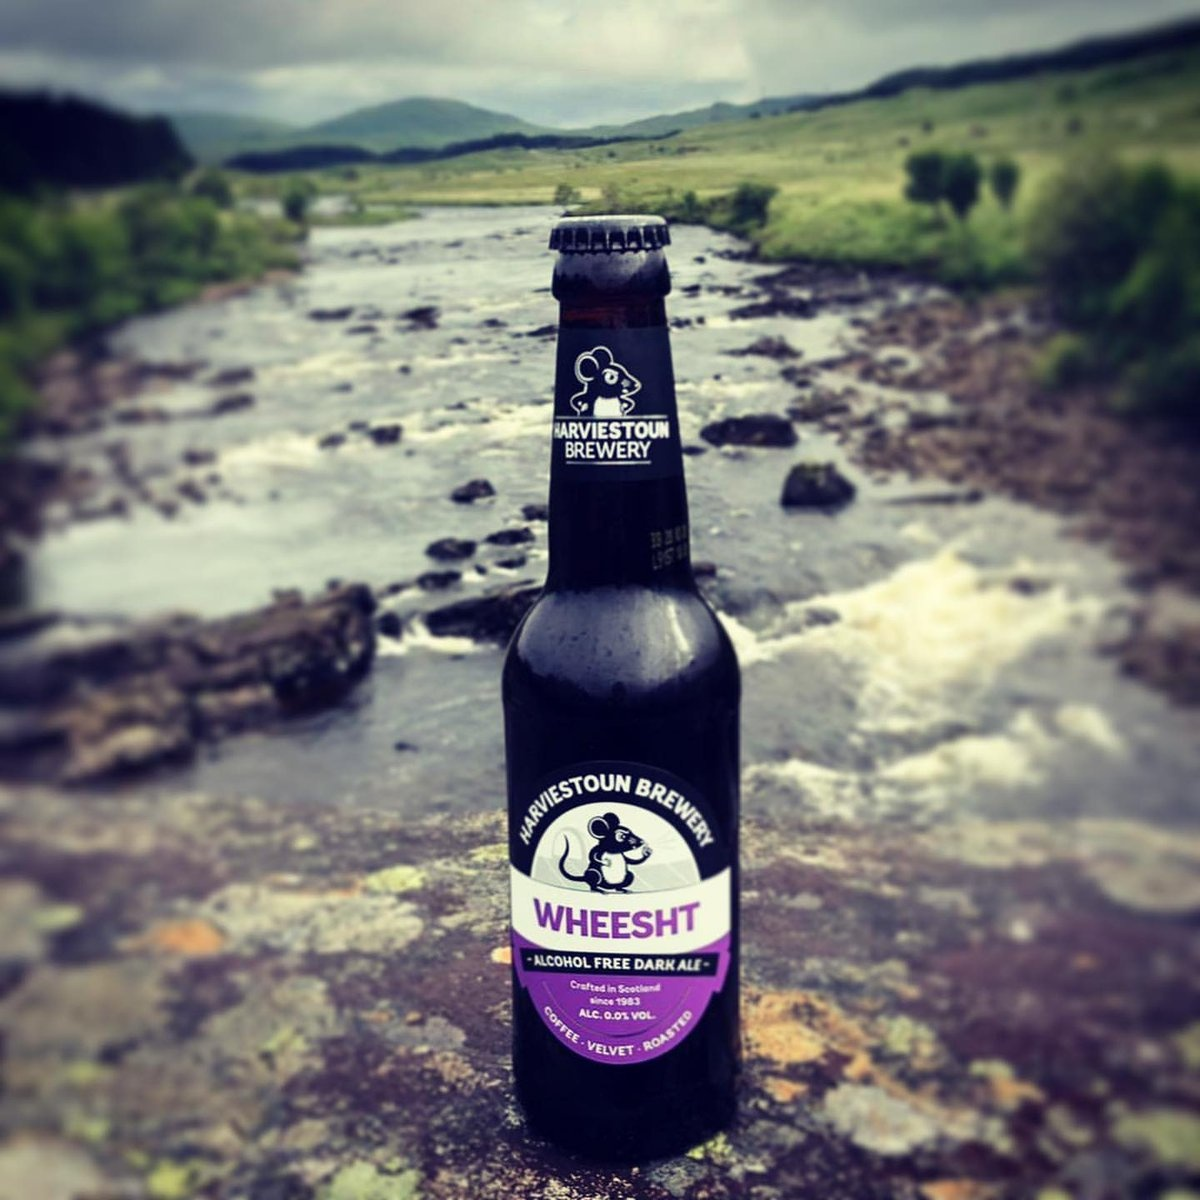beerBottle: (515, 221, 756, 1144)
